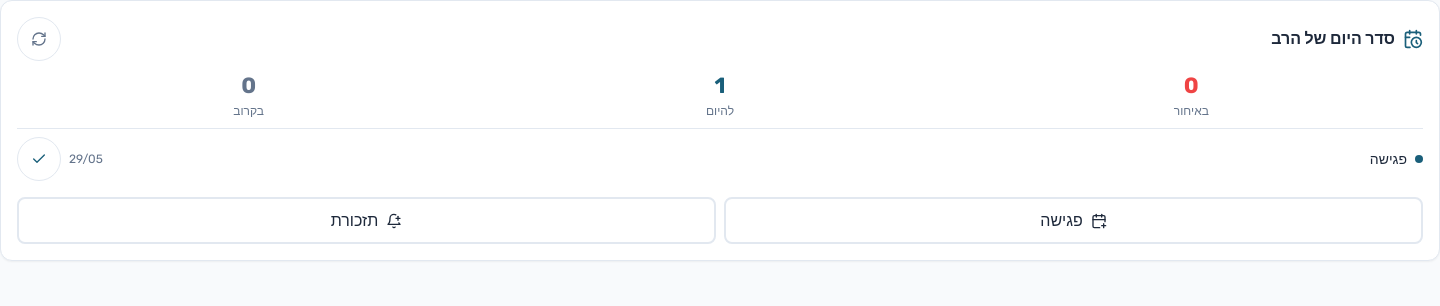
Test: RabbiDayCard › surfaces an error when the status update fails
Click the button with test id "rabbi-day-mark-done". click: (39,159)
box: [17,137,61,181]
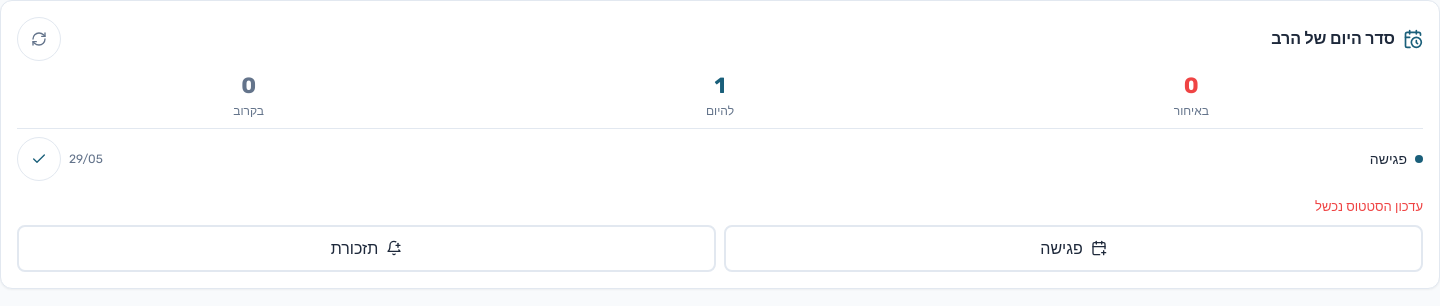
Now the text "עדכון הסטטוס נכשל" is shown, box [1315,199,1423,214]
